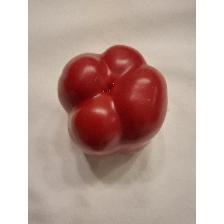Paprika: (56, 41, 170, 160)
